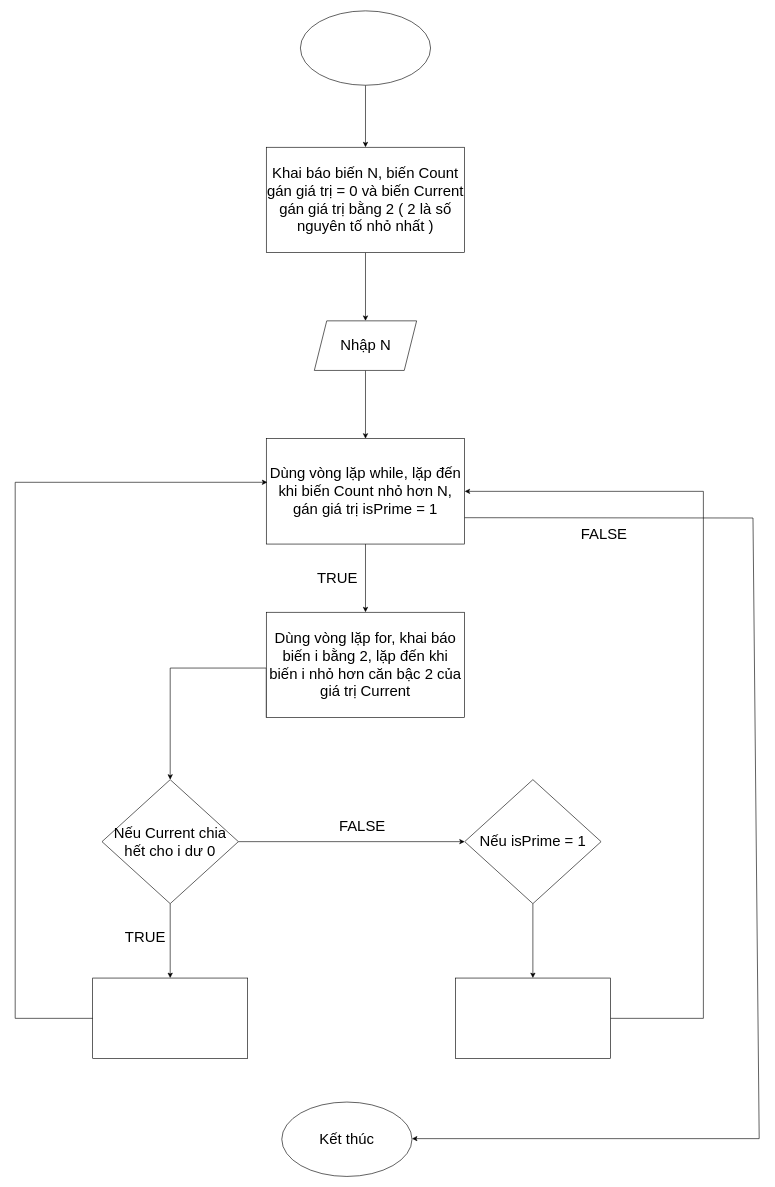
Image size: 775x1187. Some labels were removed from this diagram. The shapes that lost their labels are listed below. From the top down, each one's box as (x1, y1, x2, y2) in pixels, then its label:
(300, 10, 431, 85): Bắt đầu
(92, 977, 248, 1059): Gán giá trị isPrime = 0
(455, 977, 610, 1059): Tăng giá trị Count, Current lên 1 và in ra giá trị Current hiện tại
